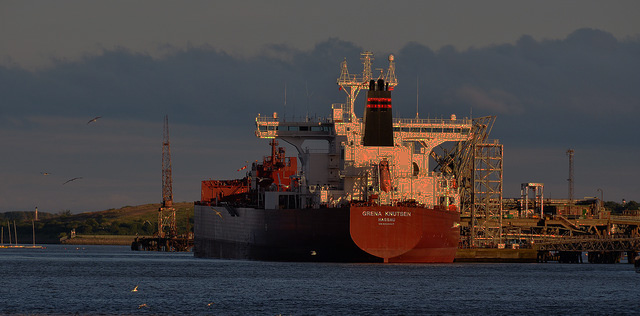tanker: (190, 50, 470, 267)
